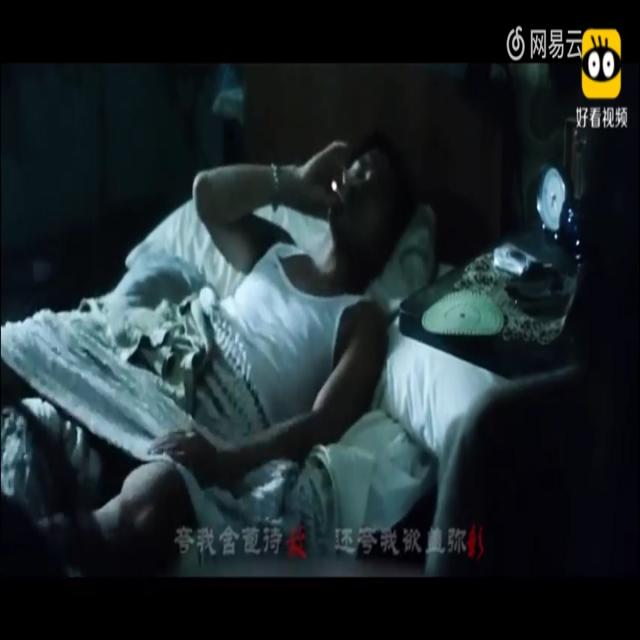smoke: (330, 179, 344, 210)
